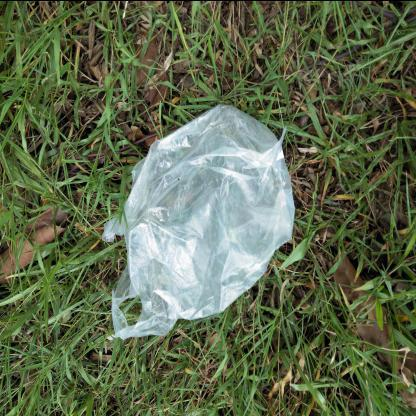plastik: (103, 105, 297, 339)
